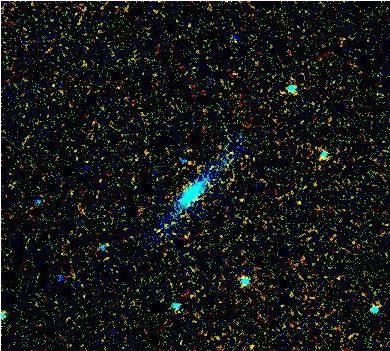star: (286, 186, 316, 216)
